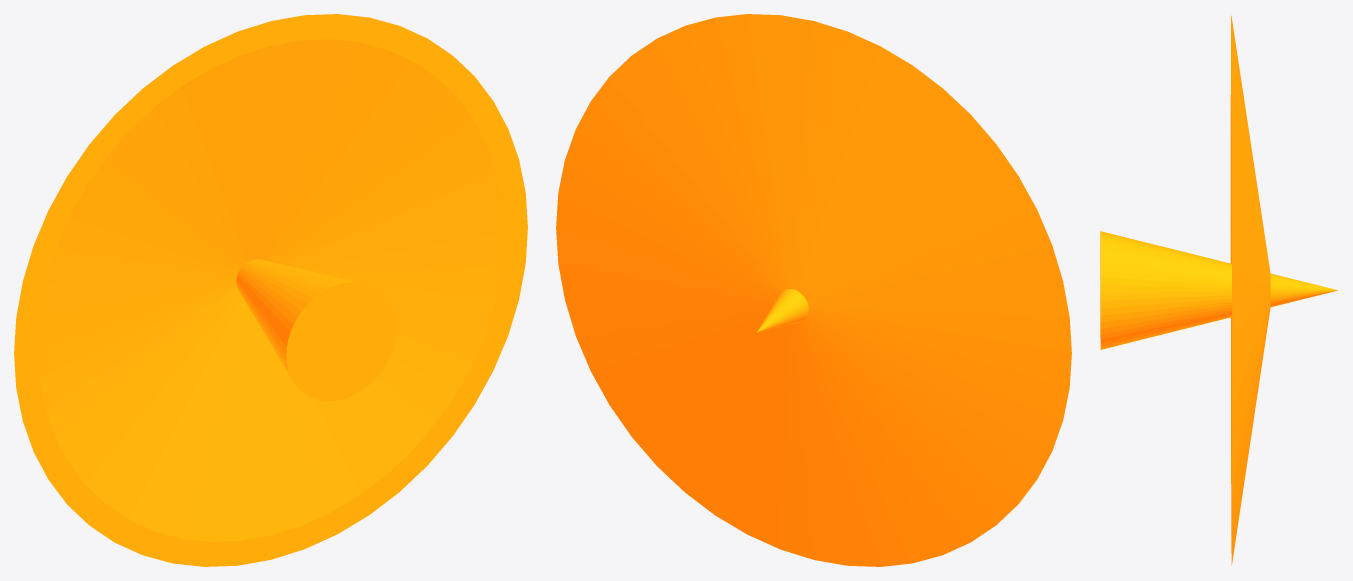
Rendered from PlasmaFX.gltf.
3 views of the same model, side by side, from view 1: azimuth 30°, elevation 25°; view 2: azimuth 150°, elevation 25°; view 3: azimuth 270°, elevation 25° (orthographic). The views are drawn at different scales.
Parts seen in each view (by area): view 1: Mighty Uusam; view 2: Mighty Uusam; view 3: Mighty Uusam.
Boxes of the visible parts, box(x1,y1,x2,y2) form: Mighty Uusam: box(14, 14, 527, 566); Mighty Uusam: box(556, 14, 1071, 566); Mighty Uusam: box(1100, 15, 1337, 565).
Size of the model in its own units: 8.79 by 8.79 by 3.78.
